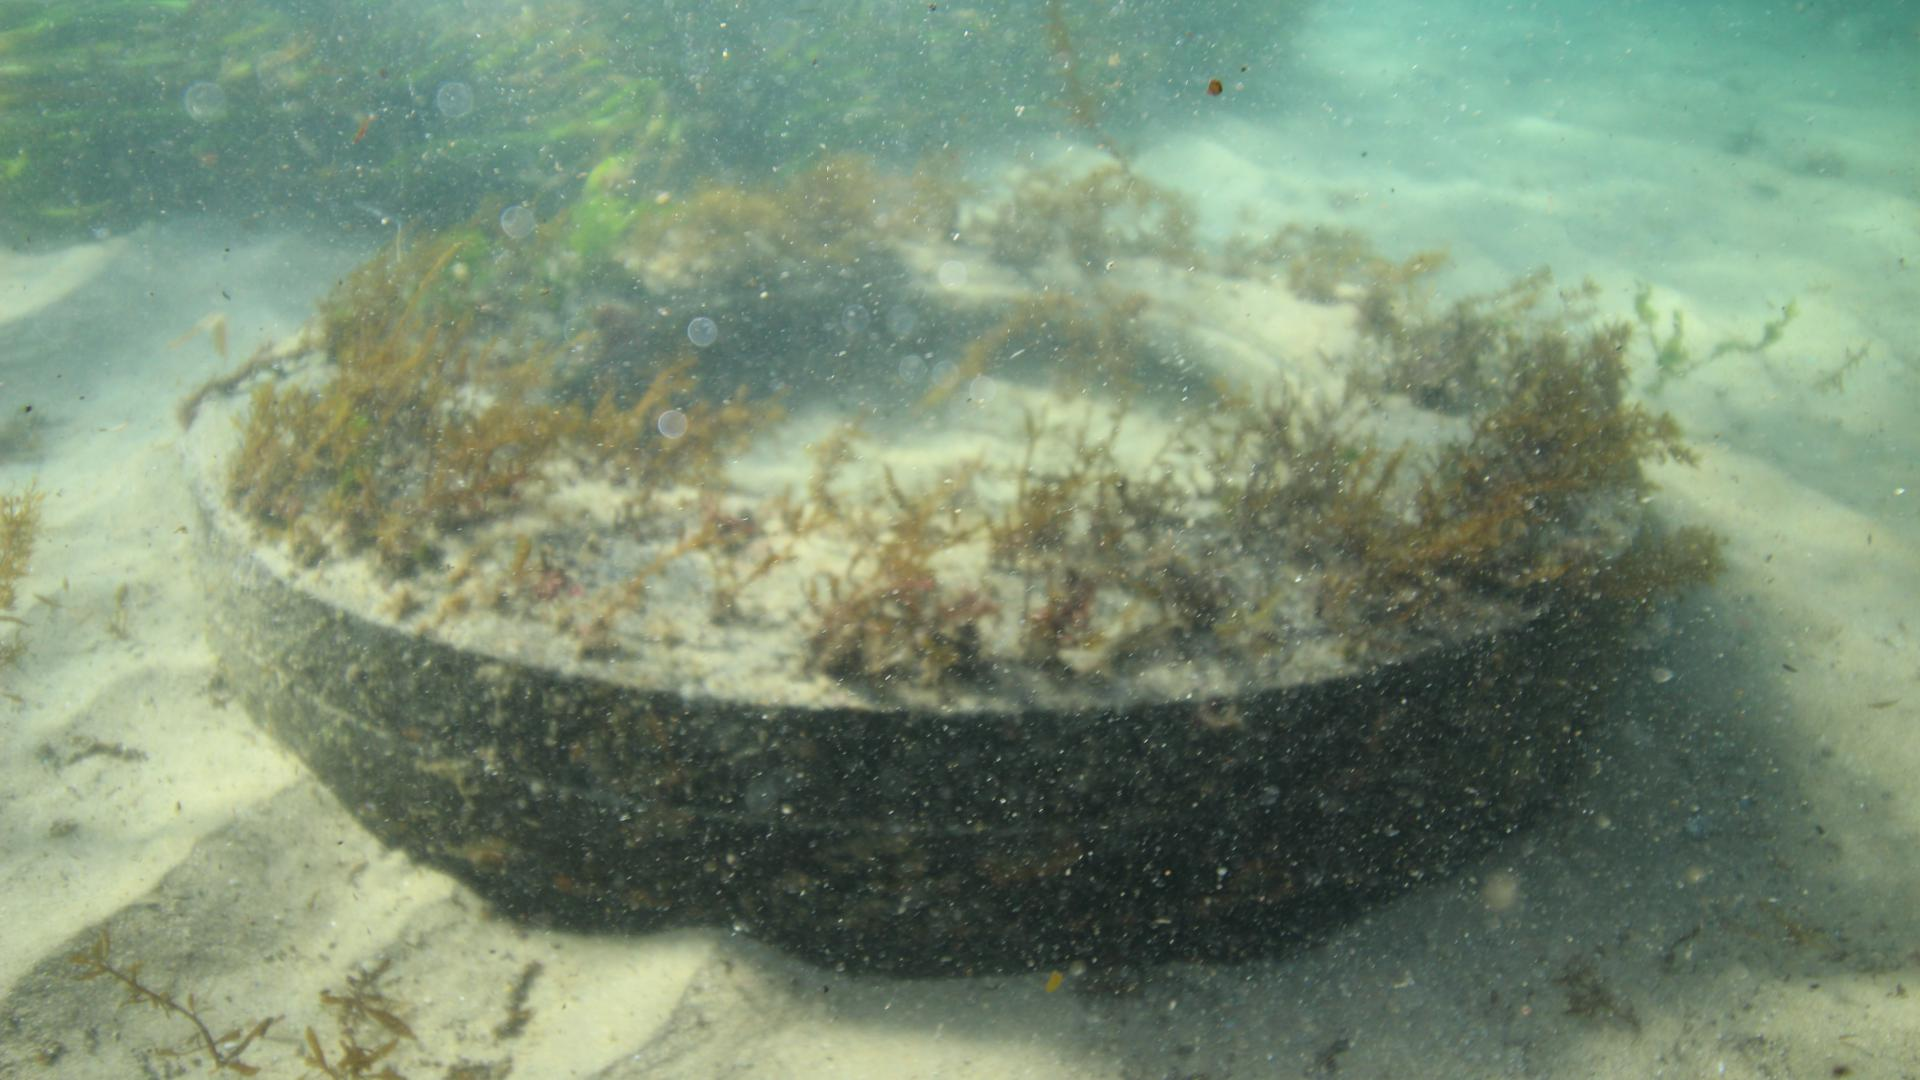tire: (179, 228, 1654, 982)
